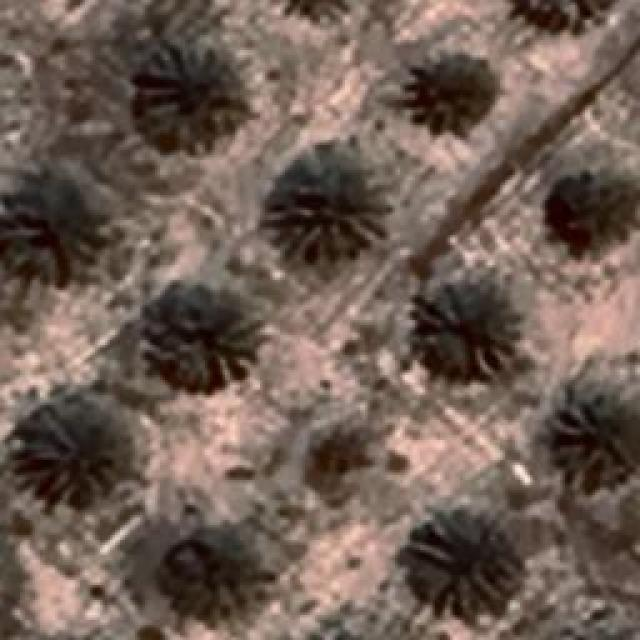PalmTree: (138, 38, 252, 152), (402, 508, 516, 620), (268, 168, 388, 262), (0, 177, 102, 284), (162, 532, 268, 626), (9, 415, 122, 503), (550, 388, 638, 490), (155, 305, 260, 390), (418, 287, 518, 375), (551, 175, 631, 250), (414, 64, 498, 128), (504, 0, 619, 43), (277, 0, 352, 22)
